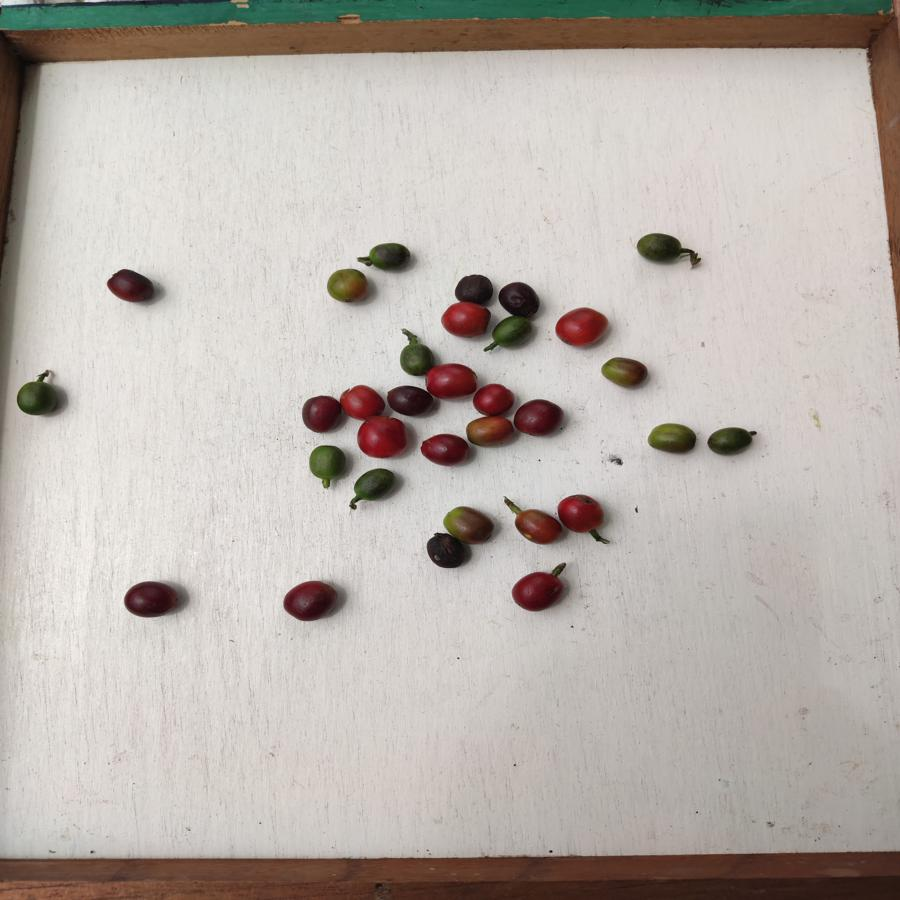Inmaduro: (634, 231, 688, 266), (709, 424, 756, 459), (305, 444, 349, 481), (16, 381, 62, 416), (354, 467, 398, 502), (491, 316, 534, 349), (369, 242, 411, 273), (398, 342, 434, 374)
Maduro: (555, 305, 611, 350), (510, 568, 566, 612), (359, 417, 408, 459), (557, 490, 604, 530), (515, 505, 562, 545), (441, 303, 487, 341), (427, 365, 481, 397), (341, 385, 386, 418), (476, 383, 511, 415)
Pinton: (645, 421, 698, 457), (598, 355, 653, 389), (445, 506, 494, 538), (466, 418, 515, 449), (326, 271, 369, 306)
Sobremaduro: (280, 580, 339, 624), (125, 579, 178, 623), (103, 266, 157, 304), (515, 399, 566, 436), (298, 394, 342, 435), (498, 281, 545, 318), (427, 532, 467, 574), (419, 435, 471, 467), (385, 383, 431, 419), (455, 272, 493, 304)
